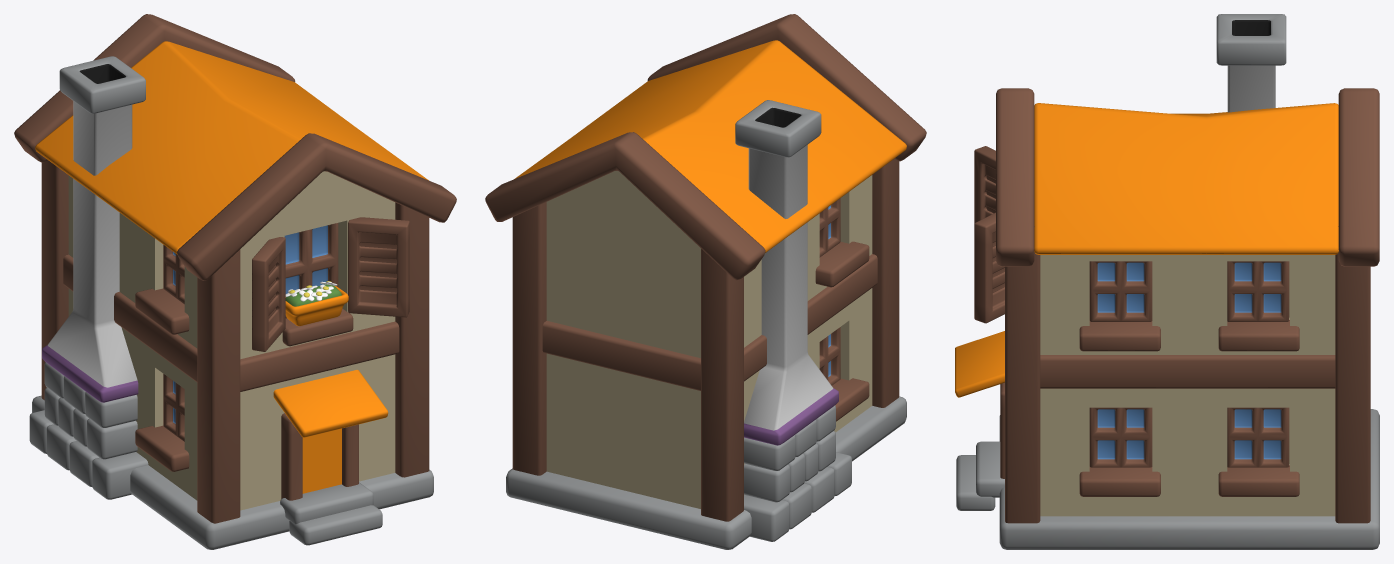
File: house4.fbx
3 views of the same model, side by side, from view 1: azimuth 30°, elevation 25°; view 2: azimuth 150°, elevation 25°; view 3: azimuth 270°, elevation 25° (orthographic). The views are drawn at different scales.
Visible parts, largest first — view 1: house4; view 2: house4; view 3: house4.
Boxes of the visible parts, x1,y1,x2,y2 form: house4: [14, 14, 456, 549]; house4: [485, 14, 926, 549]; house4: [955, 14, 1379, 549].
Size of the model in its own units: 279 by 384 by 357.
